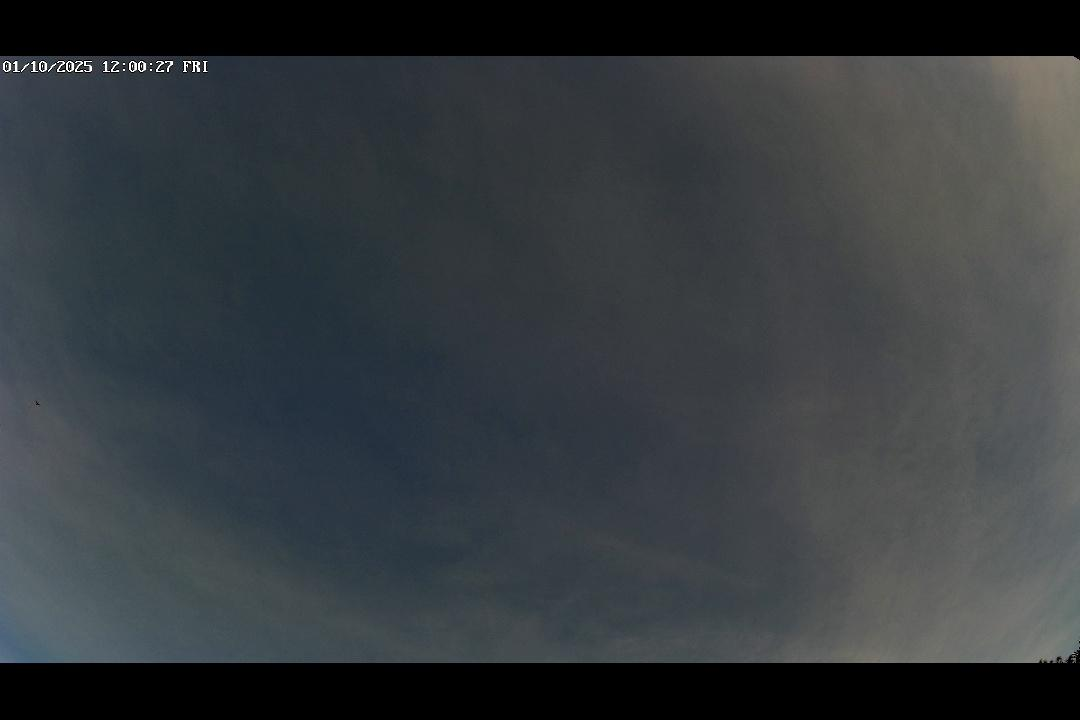WildLife: (19, 395, 54, 414)
